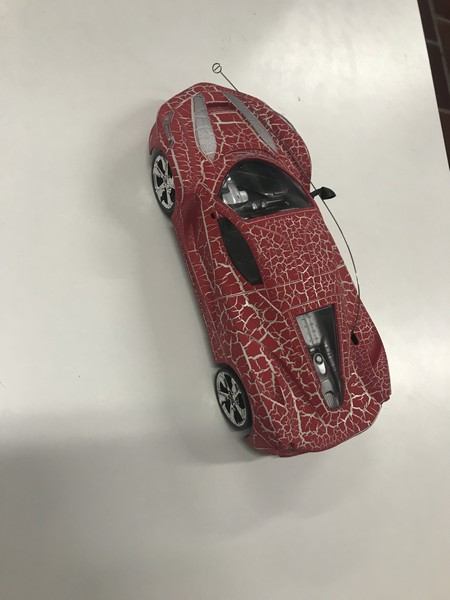RC: (145, 79, 397, 459)
